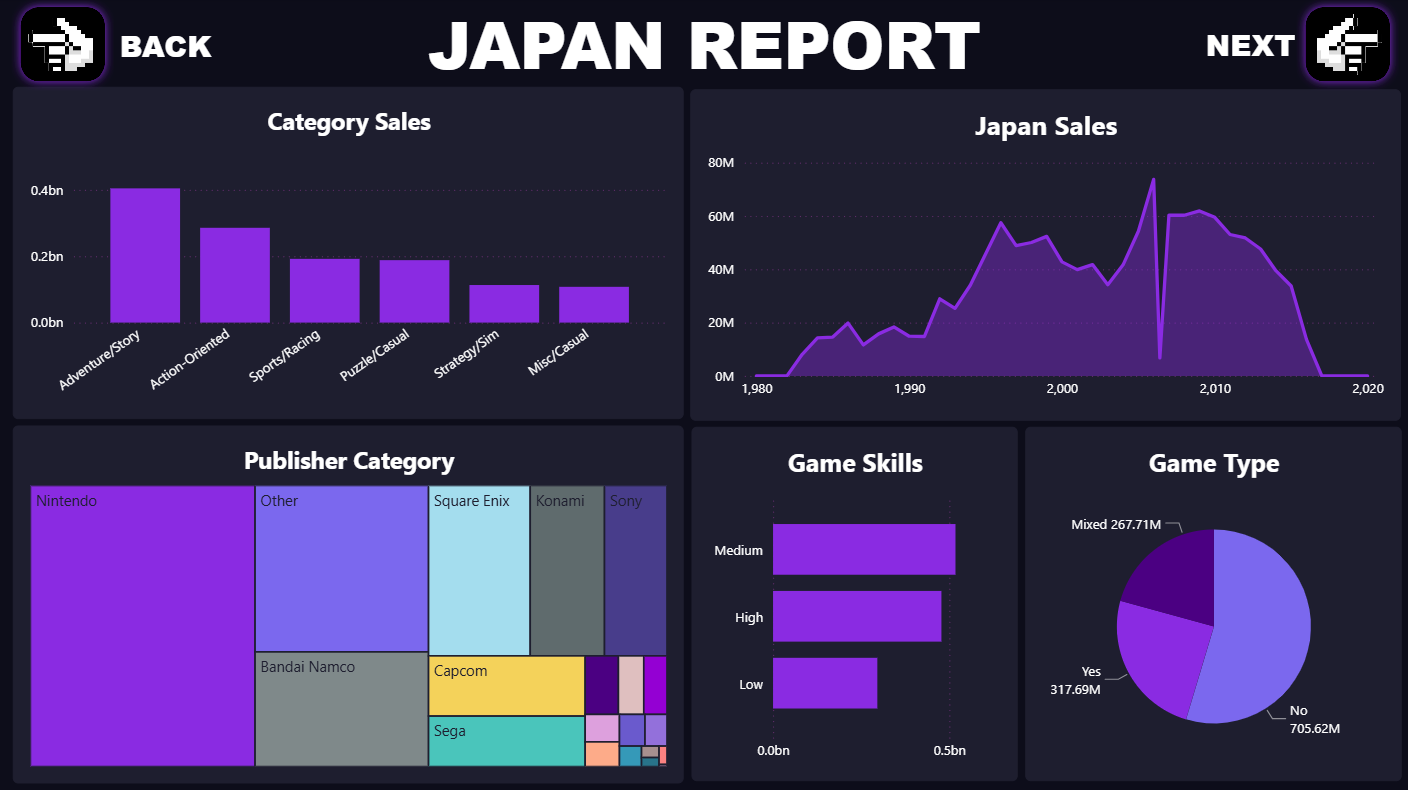

Layout of this report page (visuals, bound fields, positions):
{"tool":"powerbi","page":{"name":"JAPAN REPORT","canvas":[1280,720],"ordinal":7},"visuals":[{"type":"textbox","title":"JAPAN REPORT ","box":[171.3,0,937.4,74.7],"z":0},{"type":"areaChart","title":"Japan Sales","fields":{"Category":["Fact_Sales.Year"],"Y":["Sum(Fact_Sales.JP_Sales_Mill)"]},"box":[627.5,82.4,644.6,300.5],"z":1000},{"type":"barChart","title":"Game Skills","fields":{"Category":["Dim_category.Skills"],"Y":["Sum(Fact_Sales.JP_Sales_Mill)"]},"box":[628.4,388.9,295.9,321.9],"z":2000},{"type":"pieChart","title":"Game Type","fields":{"Category":["Dim_category.Multiplayer"],"Y":["Sum(Fact_Sales.JP_Sales_Mill)"]},"box":[930.7,388.9,341.4,321.8],"z":3000},{"type":"treemap","title":"Publisher Category","fields":{"Group":["Dim_Company.Publisher_Category"],"Values":["Sum(Fact_Sales.JP_Sales_Mill)"]},"box":[12.2,387.4,608.6,324.9],"z":4000},{"type":"columnChart","title":"Category Sales","fields":{"Category":["Dim_category.Category"],"Y":["Sum(Fact_Sales.JP_Sales_Mill)"]},"box":[12.2,80.8,608.6,301.4],"z":5000},{"type":"actionButton","box":[11.6,0,93,83.9],"z":6000},{"type":"textbox","title":"BACK","box":[105.9,23.5,91.5,39.7],"z":7000},{"type":"textbox","title":"NEXT","box":[1080.8,22.9,109.8,39.7],"z":8000},{"type":"actionButton","box":[1177.5,0,93,83.9],"z":9000}]}

Visuals, with their boxes in screenshot pixels (x1, y1, x2, y2), scaled from the page's 1280x720 canvas onto the 1408x790 screenshot:
"JAPAN REPORT " textbox: (188, 0, 1220, 82)
"Japan Sales" areaChart: (690, 90, 1399, 420)
"Game Skills" barChart: (691, 427, 1017, 780)
"Game Type" pieChart: (1024, 427, 1399, 780)
"Publisher Category" treemap: (13, 425, 683, 782)
"Category Sales" columnChart: (13, 89, 683, 419)
actionButton: (13, 0, 115, 92)
"BACK" textbox: (116, 26, 217, 69)
"NEXT" textbox: (1189, 25, 1310, 69)
actionButton: (1295, 0, 1398, 92)
